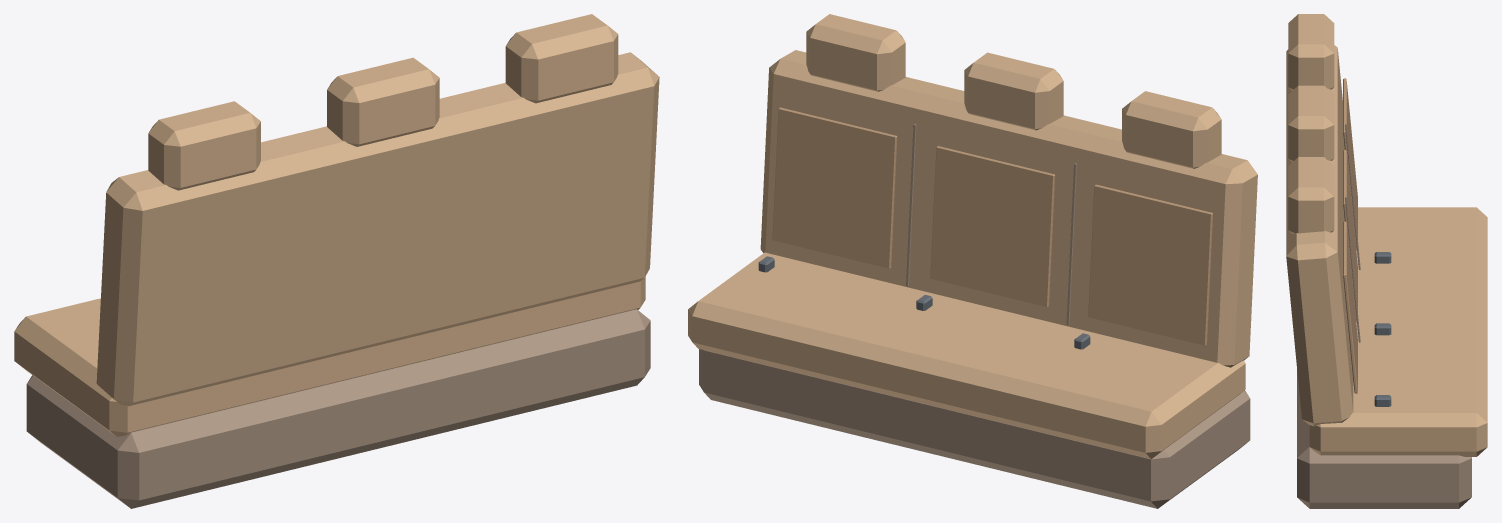
File: RearBench.glb
3 views of the same model, side by side, from view 1: azimuth 30°, elevation 25°; view 2: azimuth 150°, elevation 25°; view 3: azimuth 270°, elevation 25° (orthographic). The views are drawn at different scales.
Parts seen in each view (by area): view 1: RearBench_SandUpholstery, RearBench_WalnutDashboard; view 2: RearBench_SandUpholstery, RearBench_SeatInsert, RearBench_WalnutDashboard, RearBench_CharcoalTrim; view 3: RearBench_SandUpholstery, RearBench_WalnutDashboard, RearBench_SeatInsert, RearBench_CharcoalTrim.
Boxes of the visible parts, x1,y1,x2,y2 form: RearBench_SandUpholstery: [14, 14, 659, 436]; RearBench_WalnutDashboard: [26, 309, 650, 508]; RearBench_SandUpholstery: [688, 14, 1257, 459]; RearBench_SeatInsert: [772, 107, 1212, 345]; RearBench_WalnutDashboard: [699, 124, 1250, 508]; RearBench_CharcoalTrim: [758, 256, 1090, 349]; RearBench_SandUpholstery: [1286, 14, 1487, 456]; RearBench_WalnutDashboard: [1297, 124, 1471, 508]; RearBench_SeatInsert: [1343, 78, 1357, 393]; RearBench_CharcoalTrim: [1374, 252, 1391, 406].
Size of the model in its own units: 1.77 by 1.18 by 0.7021.
